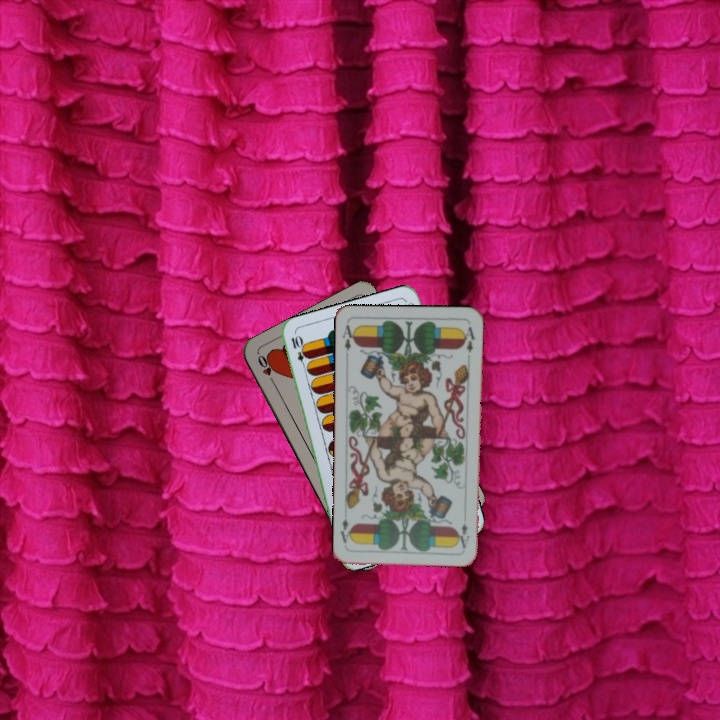E10: (287, 331, 310, 372)
EA: (338, 321, 358, 361), (457, 519, 472, 550)
HO: (253, 351, 279, 388)
